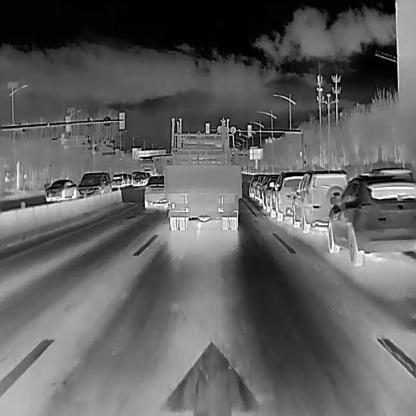car: (325, 173, 416, 265), (162, 132, 240, 230), (291, 170, 350, 232), (268, 169, 309, 220), (76, 170, 112, 201), (42, 177, 77, 202), (143, 174, 167, 210), (131, 171, 146, 188), (110, 171, 123, 189)
